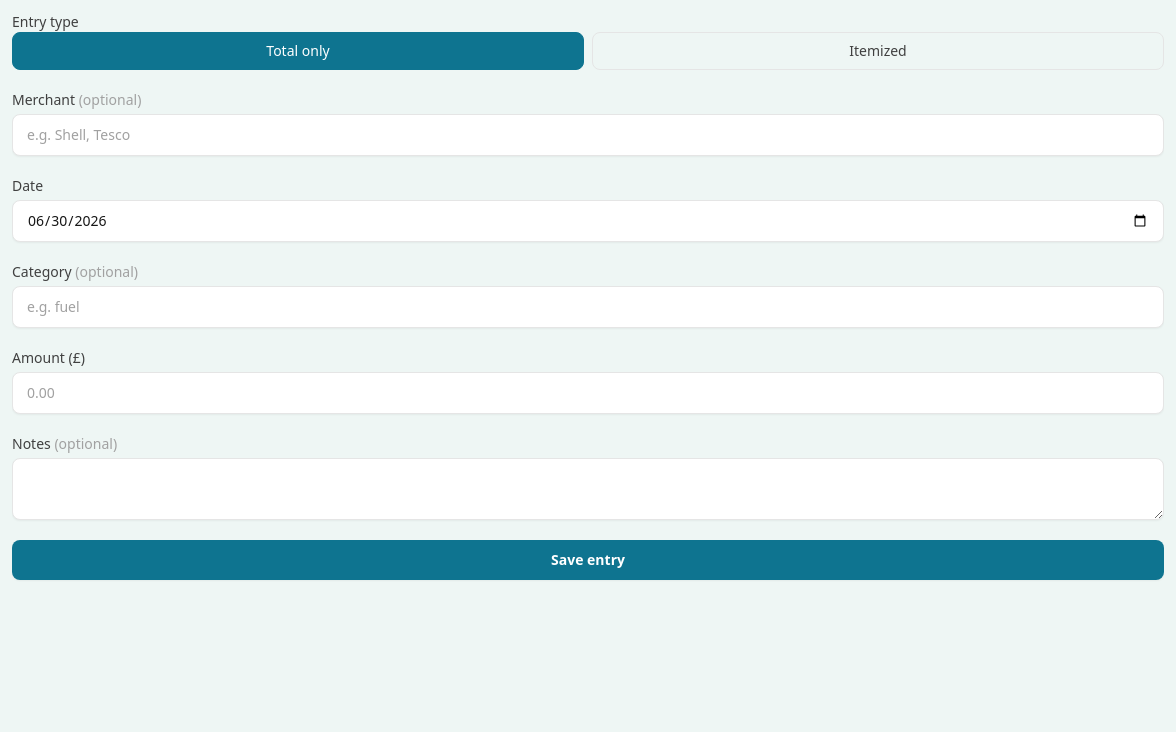
Test: ManualEntryForm › surfaces a server field error
Type "0" into the number field labelled "Amount (£)". click: (588, 393)
box: [12,372,1164,414]
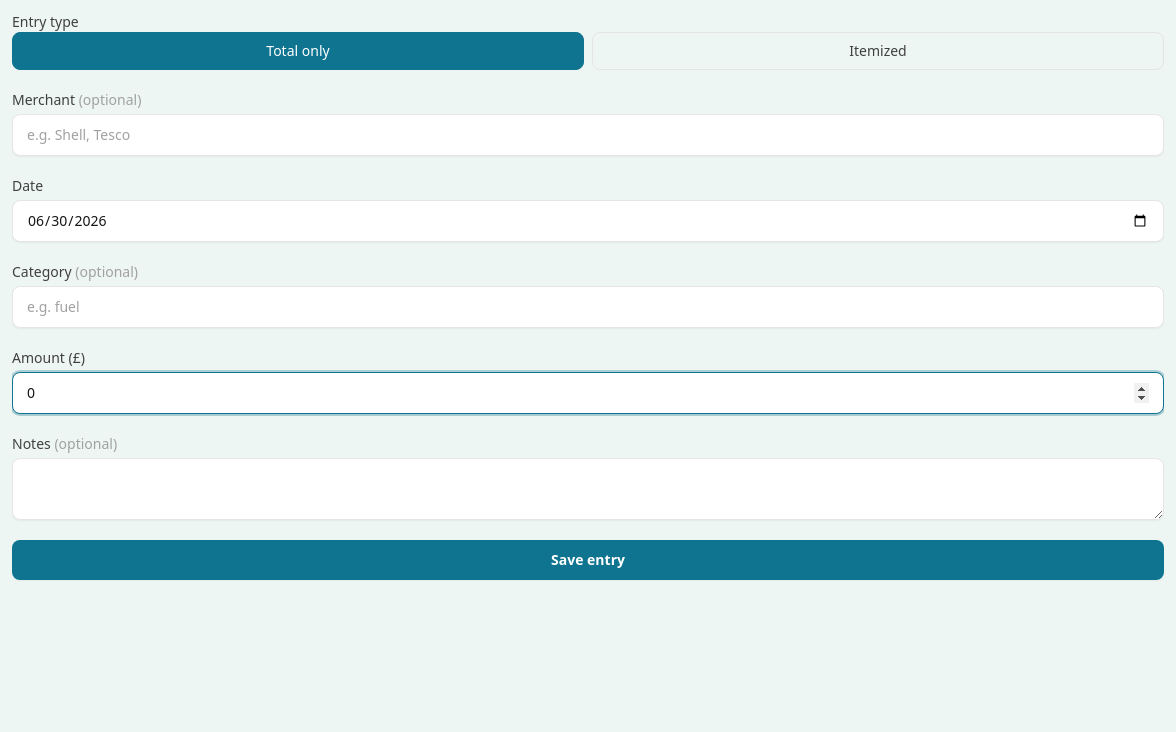
Click the button "Save entry". click: (588, 560)
box: [12,540,1164,580]
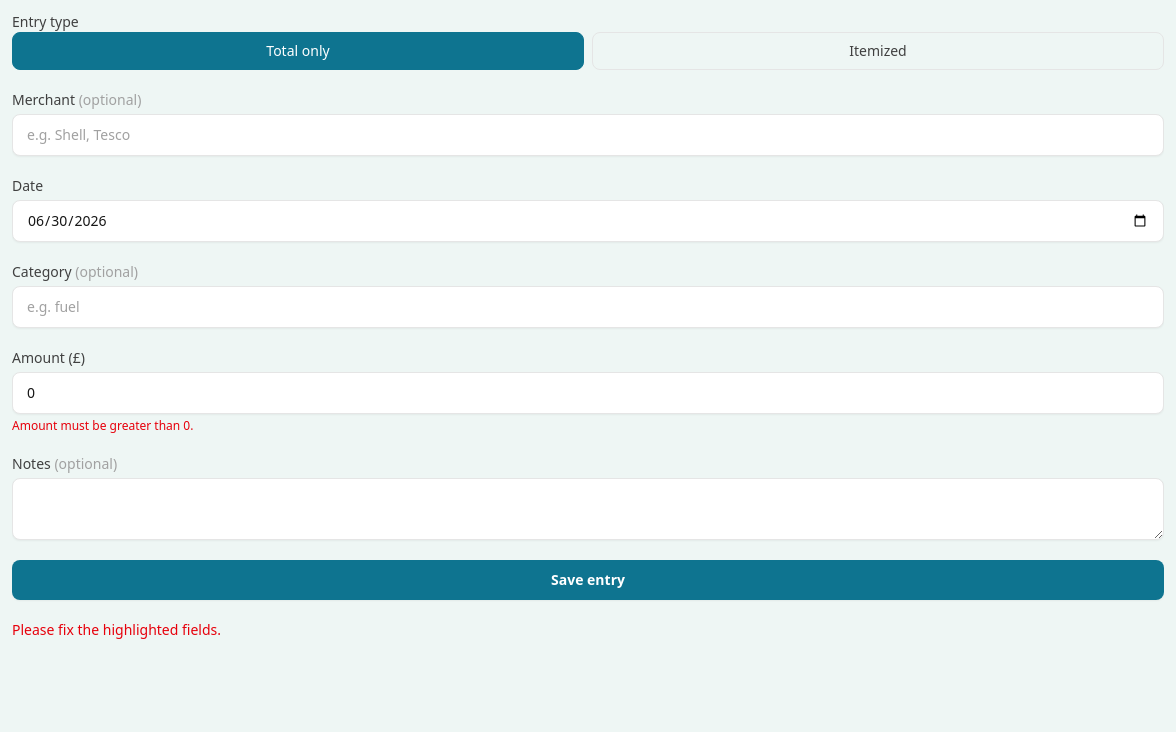
expect the text "Amount must be greater than 0." is shown: met, box [12,417,193,434]
